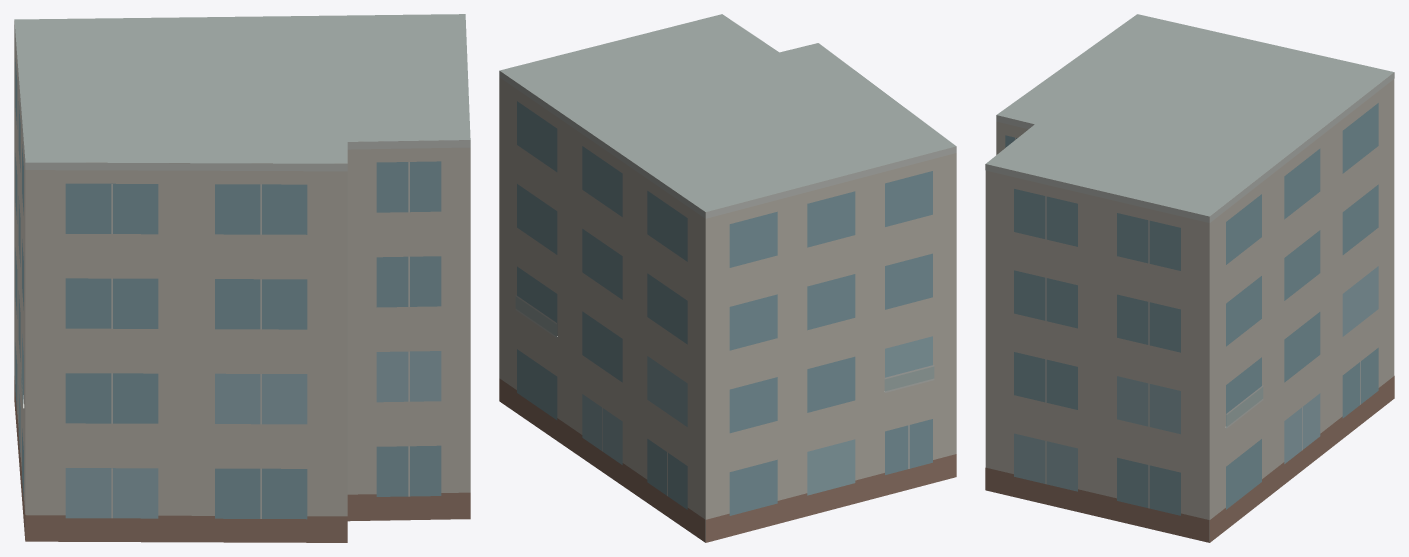
The model's file is survey-upis-32659045.glb.
3 renders of one model, left to right at view 1: azimuth 30°, elevation 25°; view 2: azimuth 150°, elevation 25°; view 3: azimuth 270°, elevation 25°, orthographic. The views are drawn at different scales.
Parts seen in each view (by area): view 1: survey-upis-32659045.tmp; view 2: survey-upis-32659045.tmp; view 3: survey-upis-32659045.tmp.
Part boxes in pixels (box(x1,y1,x2,y2)): survey-upis-32659045.tmp: box(14, 14, 470, 542); survey-upis-32659045.tmp: box(499, 14, 956, 542); survey-upis-32659045.tmp: box(985, 14, 1394, 542).
Bounding box in the file's own units: 16.25 × 12.2 × 13.86.
